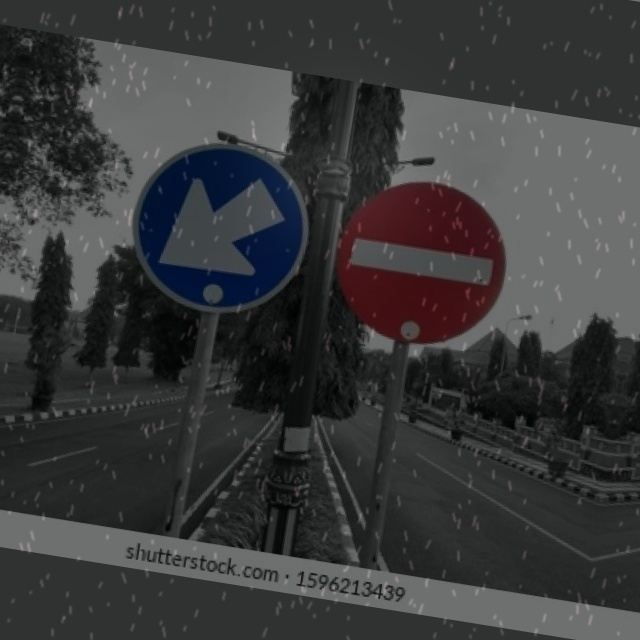Compulsory_Keep_Left: (125, 135, 314, 317)
